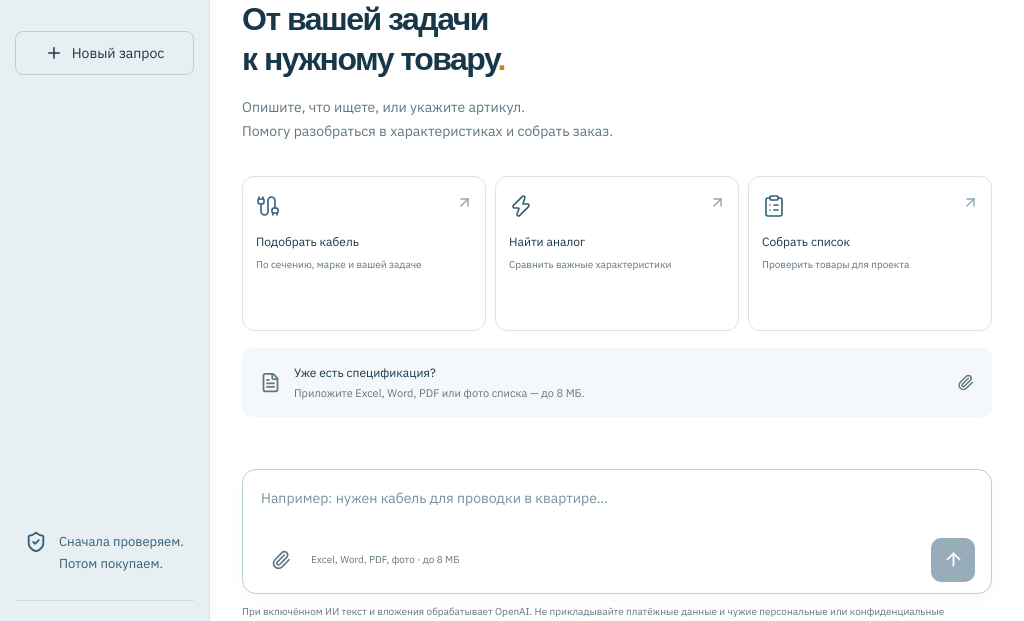
explicit cart consent and honest data › does not confirm during search or proposal; confirms only after the explicit button, with CSRF and cookie
This screenshot has width=1024, height=621.
(page scrolled)
Type "Тестовый кабель" into the text box named "Ваш запрос консультанту" at (617, 510), box [259,485,975,534]
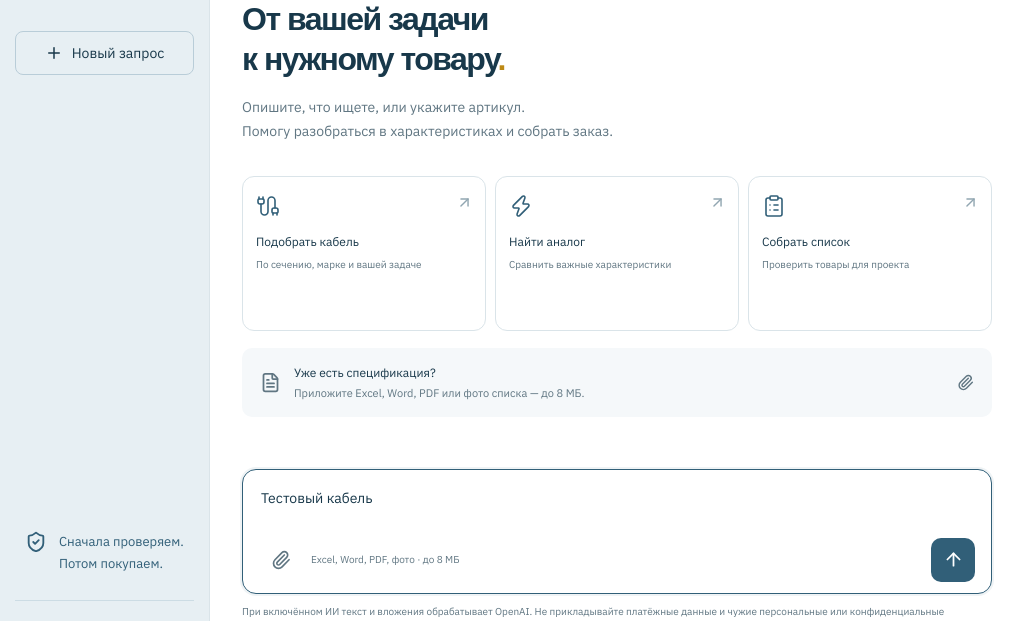
Now the button named "Отправить сообщение" is enabled
Click the button named "Отправить сообщение" at (953, 560), box [931,538,975,582]
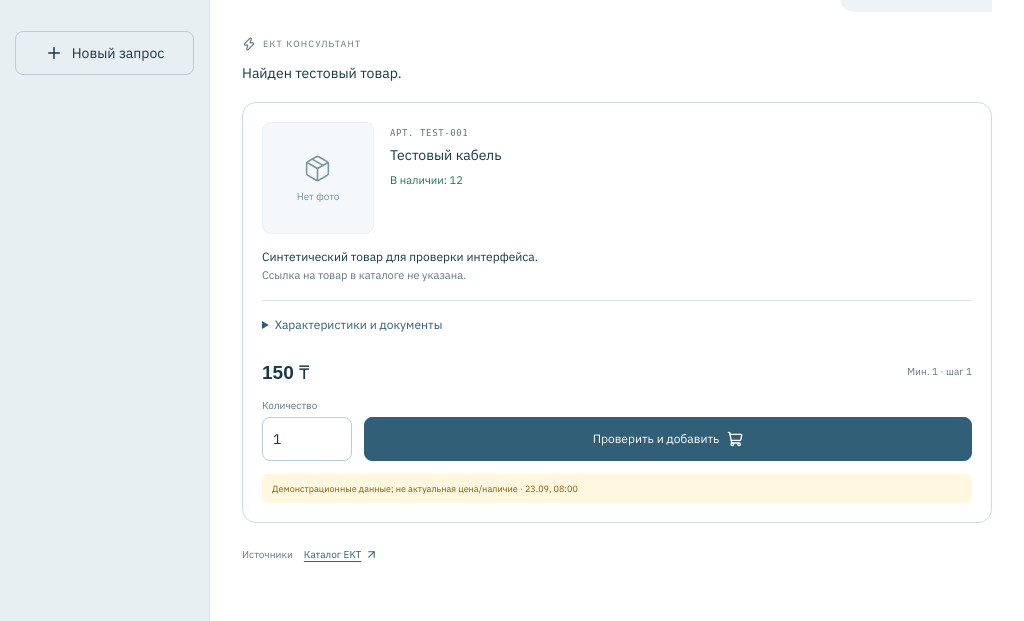
Now the text "Найден тестовый товар." is shown, box [242,64,402,82]
Replace the text in the number field labelled "Количество" with "2" at (307, 439), box [262,417,352,461]
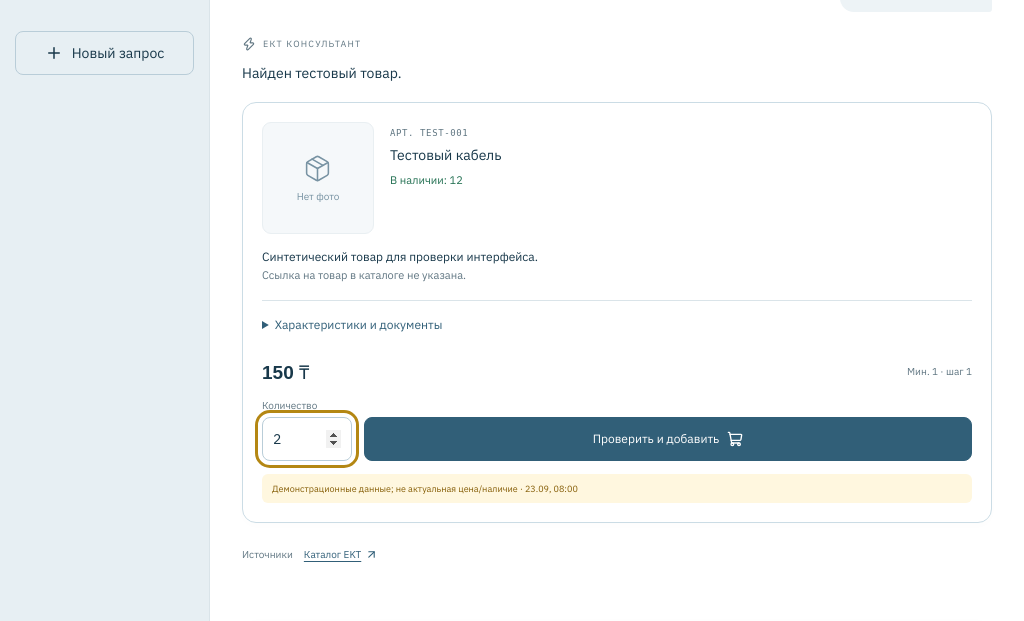
Click the button "Проверить и добавить" at (668, 439), box [364,417,972,461]
(page scrolled)
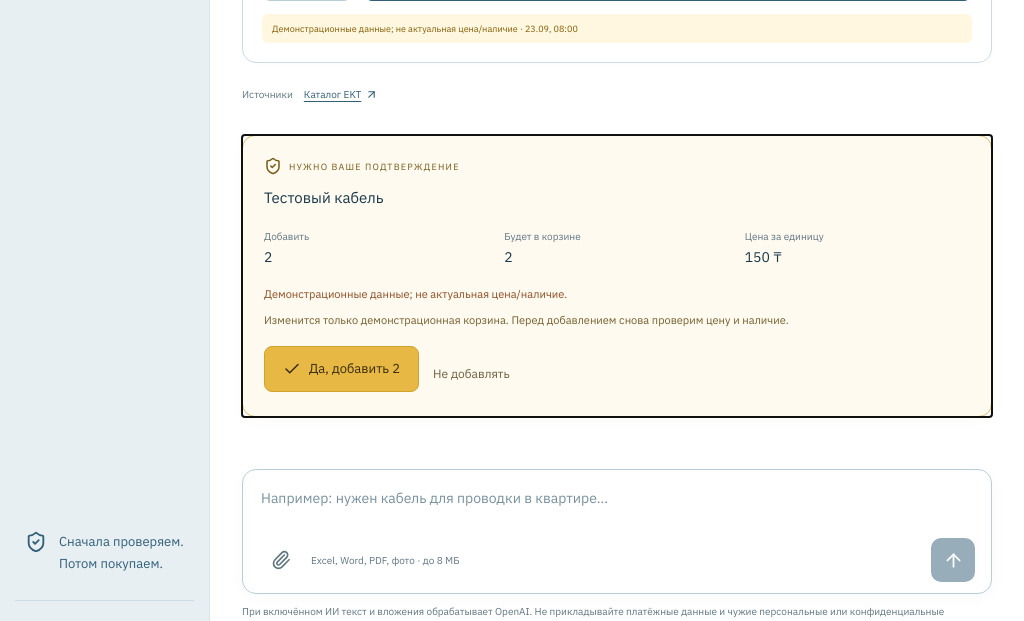
Expected: the text "Добавлено 2 в демонстрационную корзину." is not shown
Now the button "Да, добавить 2" is shown
Click the button "Да, добавить 2" at (342, 369), box [264,346,419,392]
(page scrolled)
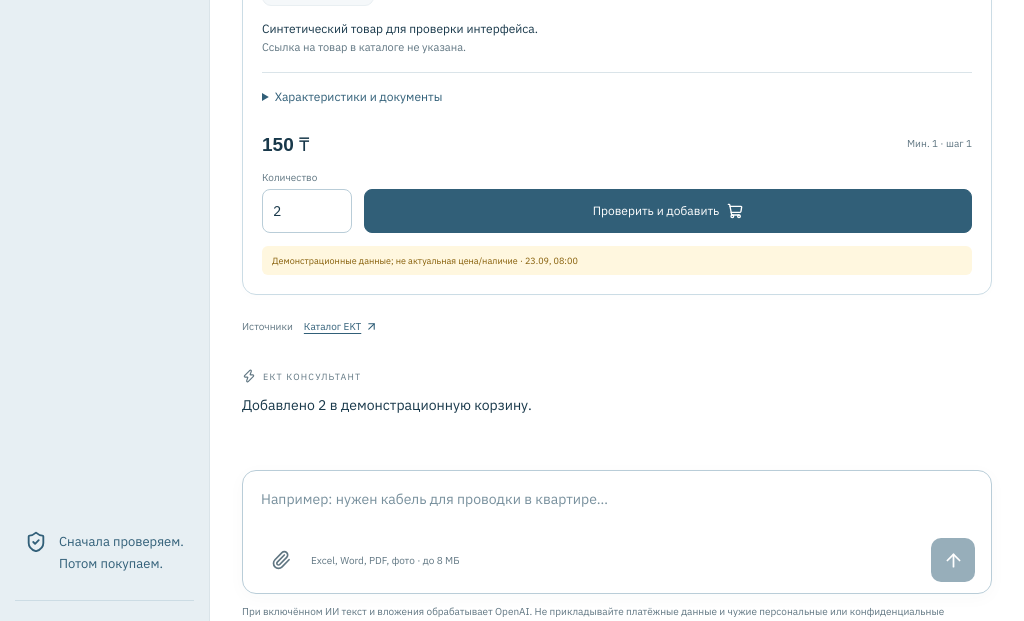
Now the text "Добавлено 2 в демонстрационную корзину." is shown, box [242,396,532,414]
Now the button "Да, добавить 2" is gone
